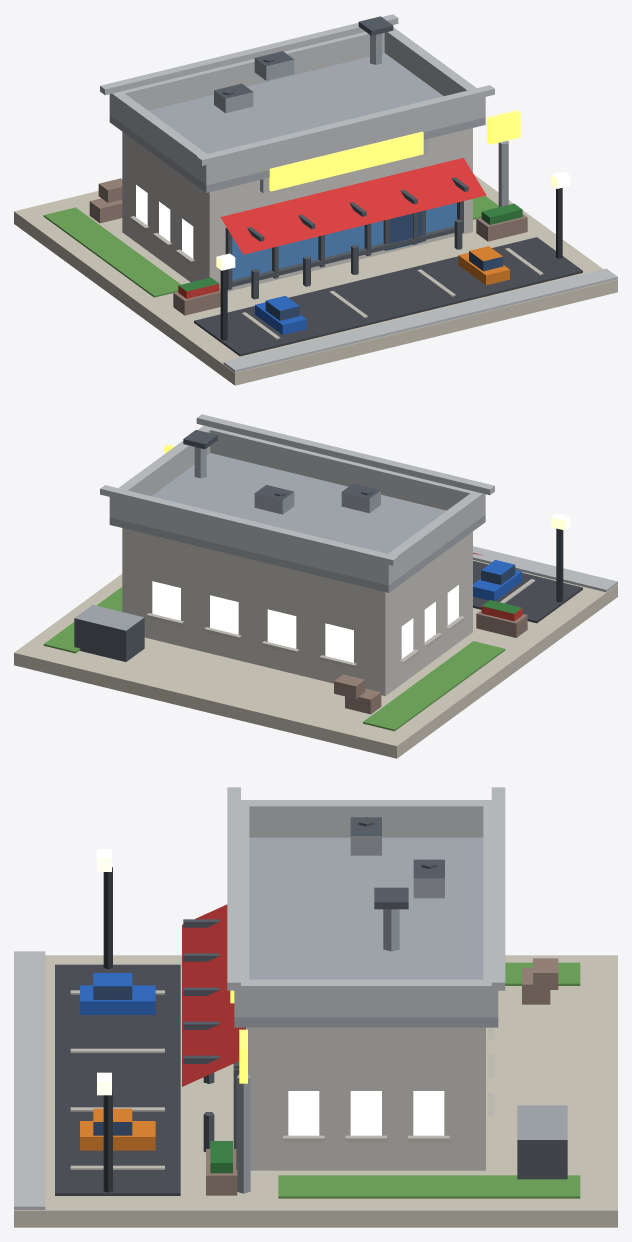
The picture shows the model from 3 angles, top to bottom: view 1: azimuth 30°, elevation 25°; view 2: azimuth 150°, elevation 25°; view 3: azimuth 270°, elevation 25°; orthographic projection. The views are drawn at different scales.
Visible parts, largest first — view 1: b11_v2; view 2: b11_v2; view 3: b11_v2.
Boxes of the visible parts, box(x1,y1,x2,y2) form: b11_v2: box(14, 14, 617, 385); b11_v2: box(14, 414, 617, 758); b11_v2: box(14, 787, 617, 1227).
Bounding box in the file's own units: 0.96 × 0.462 × 0.96.
